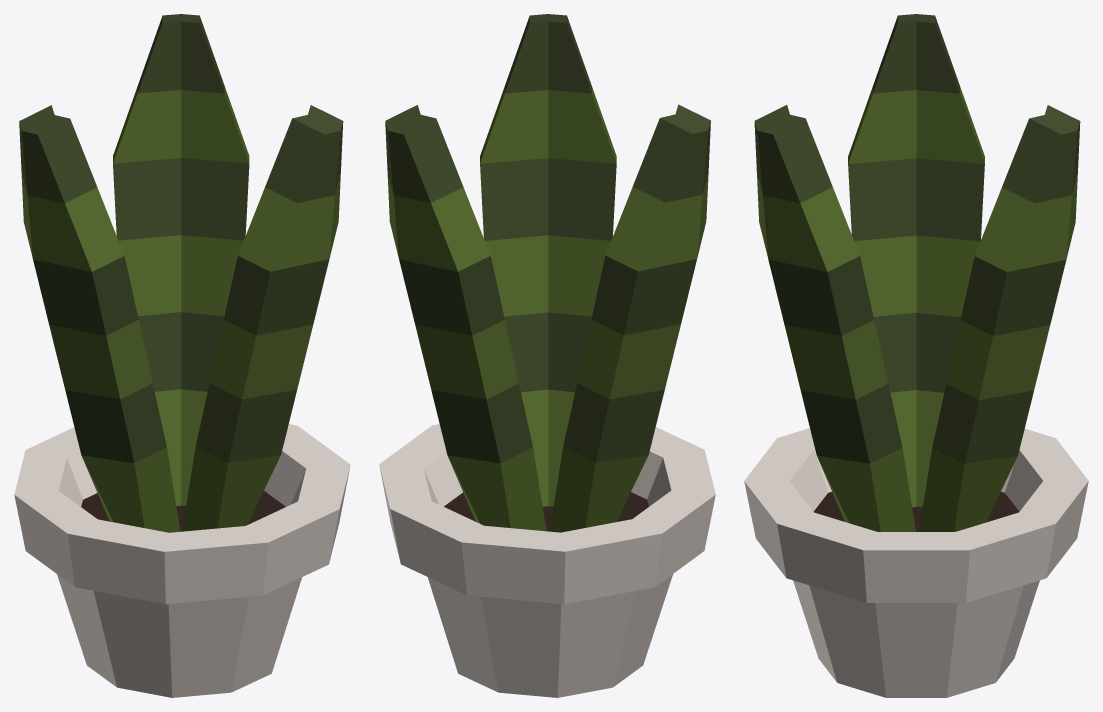
File: anopinkieli2.fbx
3 views of the same model, side by side, from view 1: azimuth 30°, elevation 25°; view 2: azimuth 150°, elevation 25°; view 3: azimuth 270°, elevation 25° (orthographic).
Visible parts, largest first — view 1: anopinkieli.002; view 2: anopinkieli.002; view 3: anopinkieli.002.
Part boxes in pixels (bbox=[...]): anopinkieli.002: bbox=[14, 14, 350, 697]; anopinkieli.002: bbox=[379, 14, 715, 697]; anopinkieli.002: bbox=[744, 14, 1088, 697].
Bounding box in the file's own units: 46.16 × 83.95 × 45.52.
